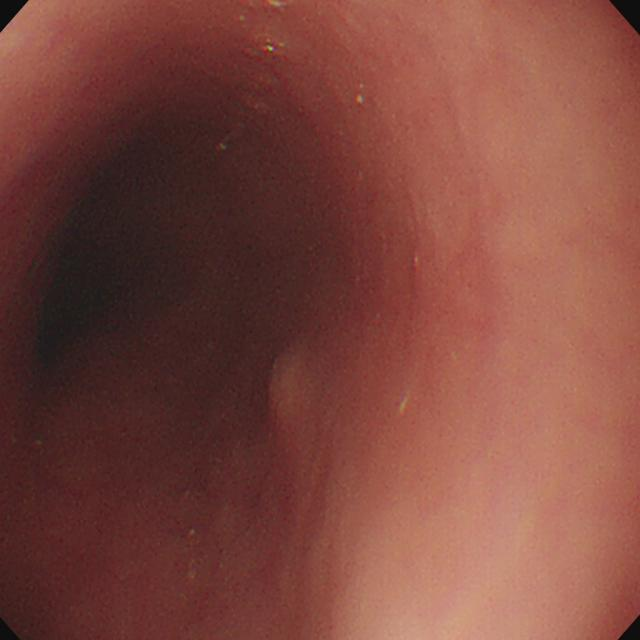E: (26, 156, 146, 356)
J: (269, 339, 309, 442)
